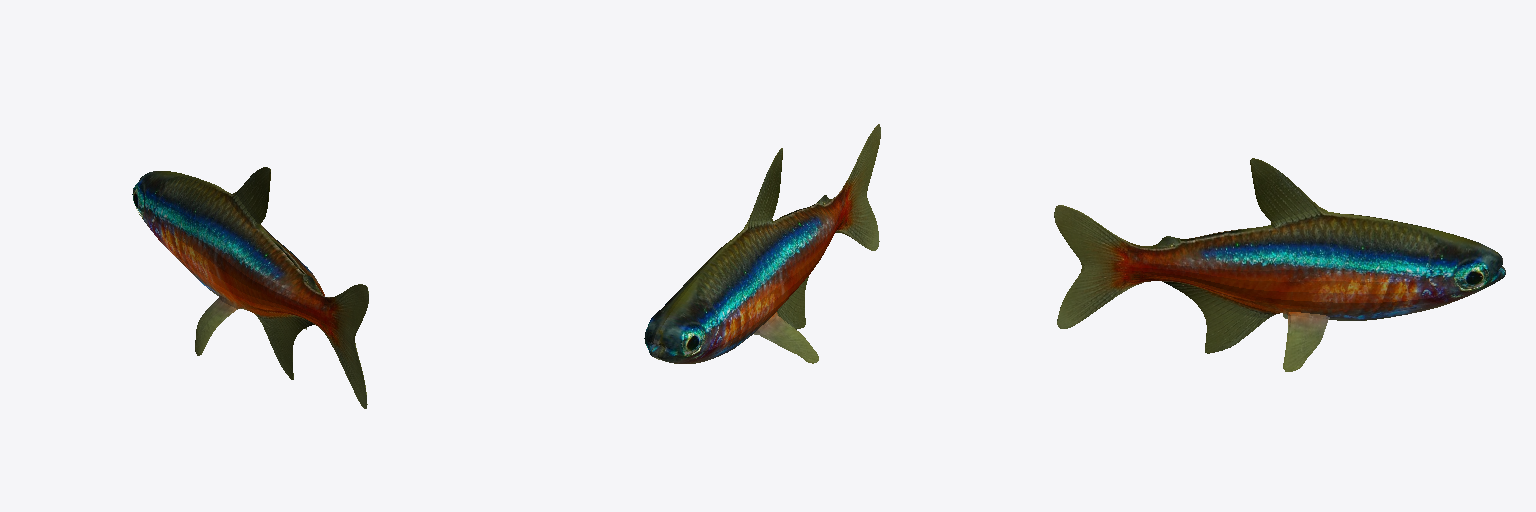
The picture shows the model from 3 angles: view 1: azimuth 30°, elevation 25°; view 2: azimuth 150°, elevation 25°; view 3: azimuth 270°, elevation 25°; orthographic projection.
Visible parts, largest first — view 1: Guppy_Plane; view 2: Guppy_Plane; view 3: Guppy_Plane.
Boxes of the visible parts, x1,y1,x2,y2 form: Guppy_Plane: [132, 167, 368, 408]; Guppy_Plane: [644, 124, 880, 363]; Guppy_Plane: [1054, 158, 1505, 371].
Bounding box in the file's own units: 0.7231 × 1.25 × 2.61.
Materials: 1 (1 with a texture image).